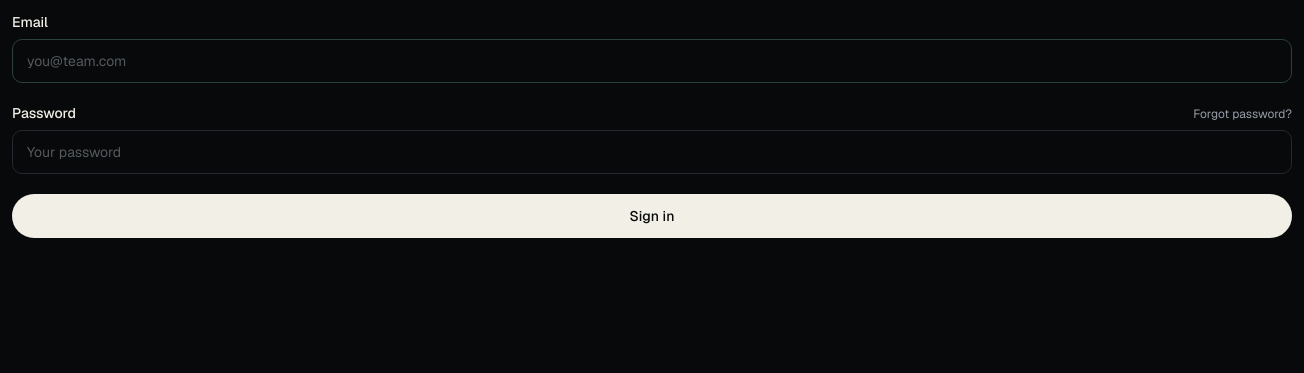
Test: LoginForm › renders the server action field errors
This screenshot has width=1304, height=373.
Click the button "Sign in".
click(652, 216)  # box [12,194,1292,238]
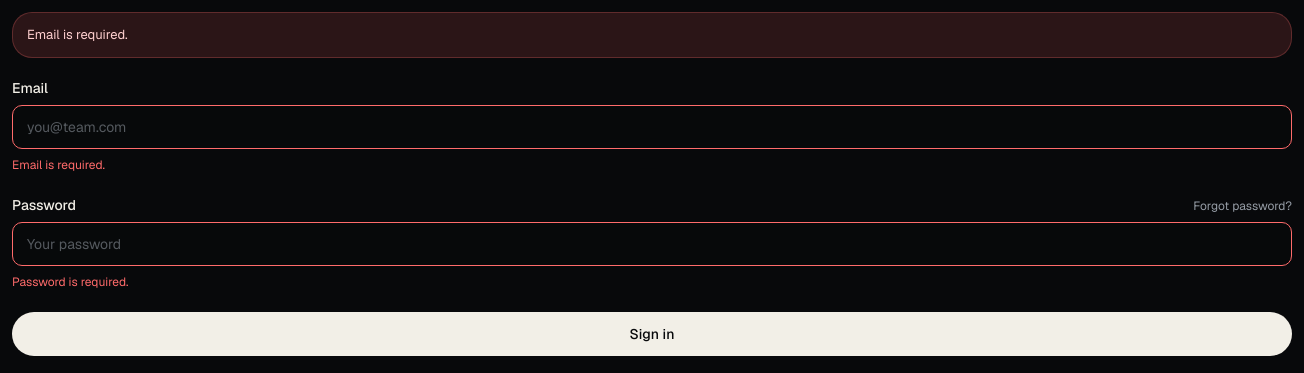
Now the 1st text "Email is required." is shown, box [12,12,1292,58]
Now the text "Password is required." is shown, box [12,274,128,290]
